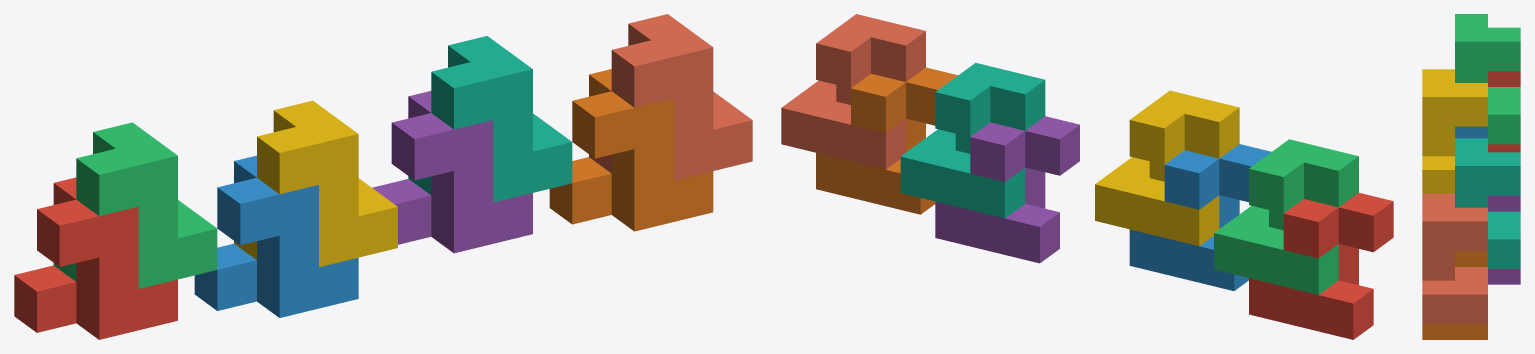
File: tiling.obj
3 views of the same model, side by side, from view 1: azimuth 30°, elevation 25°; view 2: azimuth 150°, elevation 25°; view 3: azimuth 270°, elevation 25° (orthographic). The views are drawn at different scales.
Parts seen in each view (by area): view 1: copy_1_domain_1, copy_1_domain_6, copy_1_domain_2, copy_1_domain_5, copy_1_domain_3, copy_1_domain_7, copy_1_domain_8, copy_1_domain_4; view 2: copy_1_domain_7, copy_1_domain_4, copy_1_domain_3, copy_1_domain_8, copy_1_domain_1, copy_1_domain_5, copy_1_domain_2, copy_1_domain_6; view 3: copy_1_domain_8, copy_1_domain_3, copy_1_domain_7, copy_1_domain_4, copy_1_domain_6, copy_1_domain_5, copy_1_domain_1, copy_1_domain_2.
Boxes of the visible parts, x1,y1,x2,y2 form: copy_1_domain_1: (14, 177, 177, 339); copy_1_domain_6: (549, 69, 713, 231); copy_1_domain_2: (194, 155, 358, 317); copy_1_domain_5: (372, 91, 532, 253); copy_1_domain_3: (53, 122, 217, 288); copy_1_domain_7: (408, 36, 572, 202); copy_1_domain_8: (589, 14, 752, 180); copy_1_domain_4: (234, 100, 397, 267); copy_1_domain_7: (900, 62, 1045, 218); copy_1_domain_4: (1095, 90, 1239, 246); copy_1_domain_3: (1214, 139, 1358, 294); copy_1_domain_8: (781, 14, 925, 169); copy_1_domain_1: (1249, 193, 1393, 339); copy_1_domain_5: (935, 116, 1079, 263); copy_1_domain_2: (1129, 144, 1271, 290); copy_1_domain_6: (816, 67, 957, 214); copy_1_domain_8: (1422, 193, 1487, 324); copy_1_domain_3: (1455, 14, 1520, 144); copy_1_domain_7: (1455, 138, 1520, 268); copy_1_domain_4: (1422, 69, 1487, 193); copy_1_domain_6: (1422, 251, 1487, 339); copy_1_domain_5: (1488, 195, 1520, 284); copy_1_domain_1: (1488, 71, 1520, 152); copy_1_domain_2: (1455, 126, 1487, 138).
Bounding box in the file's own units: 17 × 4 × 3.
